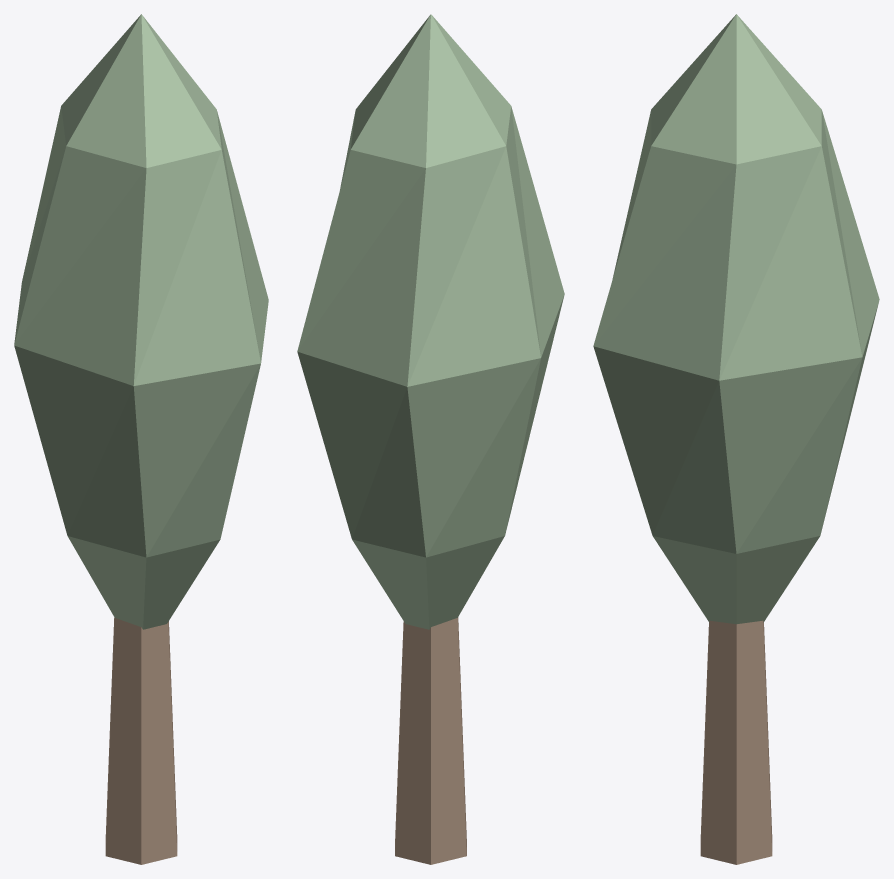
File: tree-poplar.glb
3 views of the same model, side by side, from view 1: azimuth 30°, elevation 25°; view 2: azimuth 150°, elevation 25°; view 3: azimuth 270°, elevation 25° (orthographic).
Visible parts, largest first — view 1: tree-poplar; view 2: tree-poplar; view 3: tree-poplar.
Part boxes in pixels (x1,y1,x2,y2): tree-poplar: (14, 14, 268, 864); tree-poplar: (297, 14, 564, 864); tree-poplar: (593, 14, 879, 864).
Bounding box in the file's own units: 3.88 × 13 × 4.05.
